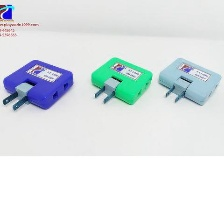three_eye_plug: (0, 56, 75, 116), (153, 53, 222, 108), (86, 53, 153, 108)
